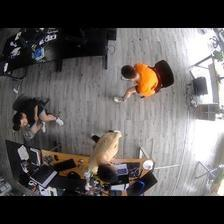normal: (110, 59, 170, 107), (84, 125, 127, 183), (11, 96, 64, 137)
